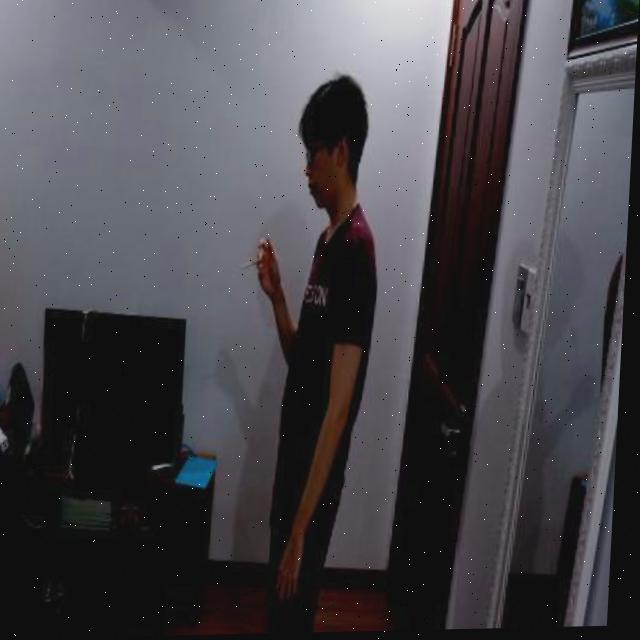cigarette: (243, 261, 261, 274)
